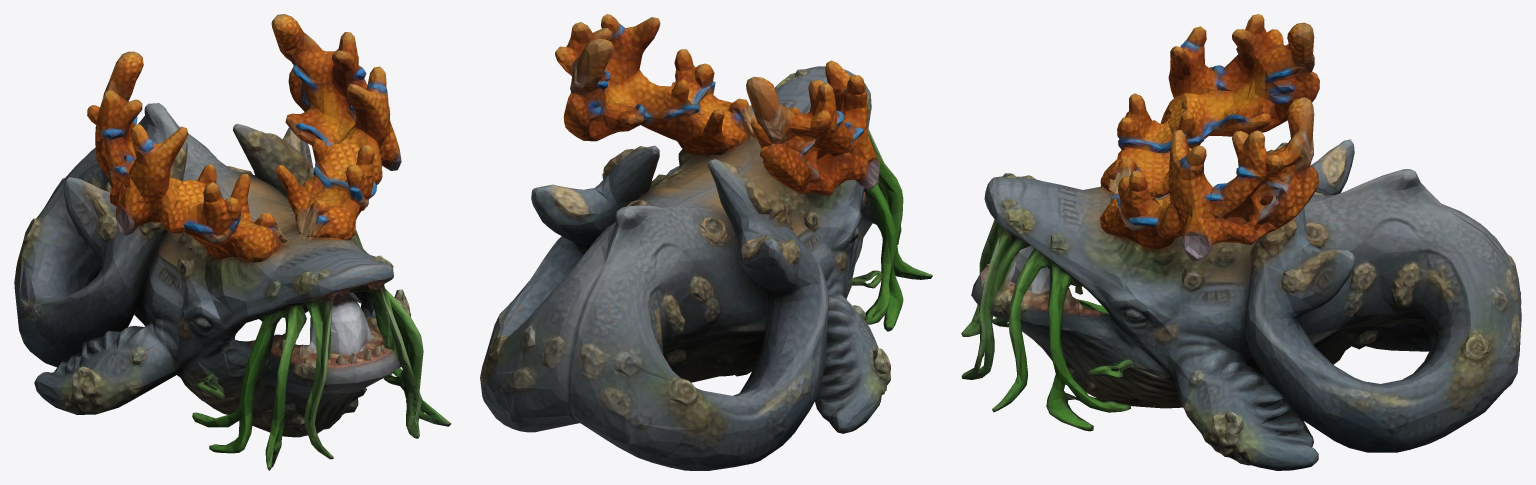
The model's file is sunkenhorn__bakunawaElder.glb.
3 views of the same model, side by side, from view 1: azimuth 30°, elevation 25°; view 2: azimuth 150°, elevation 25°; view 3: azimuth 270°, elevation 25° (orthographic). The views are drawn at different scales.
Visible parts, largest first — view 1: world; view 2: world; view 3: world.
Boxes of the visible parts, box(x1,y1,x2,y2) form: world: box(14, 14, 451, 470); world: box(480, 14, 932, 470); world: box(961, 14, 1521, 470).
Size of the model in its own units: 0.7066 by 0.6669 by 0.9981.
1 material, 1 textured.
